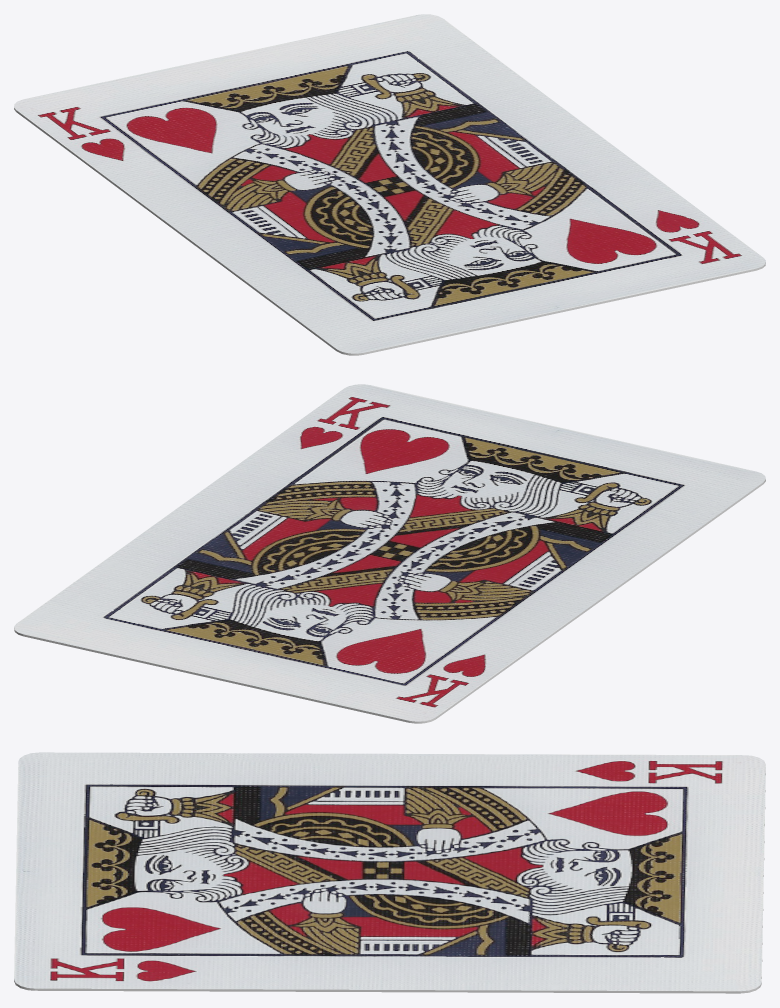
The model's file is heartsK.fbx.
3 views of the same model, one above another, from view 1: azimuth 30°, elevation 25°; view 2: azimuth 150°, elevation 25°; view 3: azimuth 270°, elevation 25° (orthographic). The views are drawn at different scales.
Visible parts, largest first — view 1: Hearts_K_5; view 2: Hearts_K_5; view 3: Hearts_K_5.
Boxes of the visible parts, x1,y1,x2,y2 form: Hearts_K_5: (14,14,765,355); Hearts_K_5: (14,384,765,723); Hearts_K_5: (14,752,765,993).
Bounding box in the file's own units: 6.33 × 0.1793 × 8.85.
